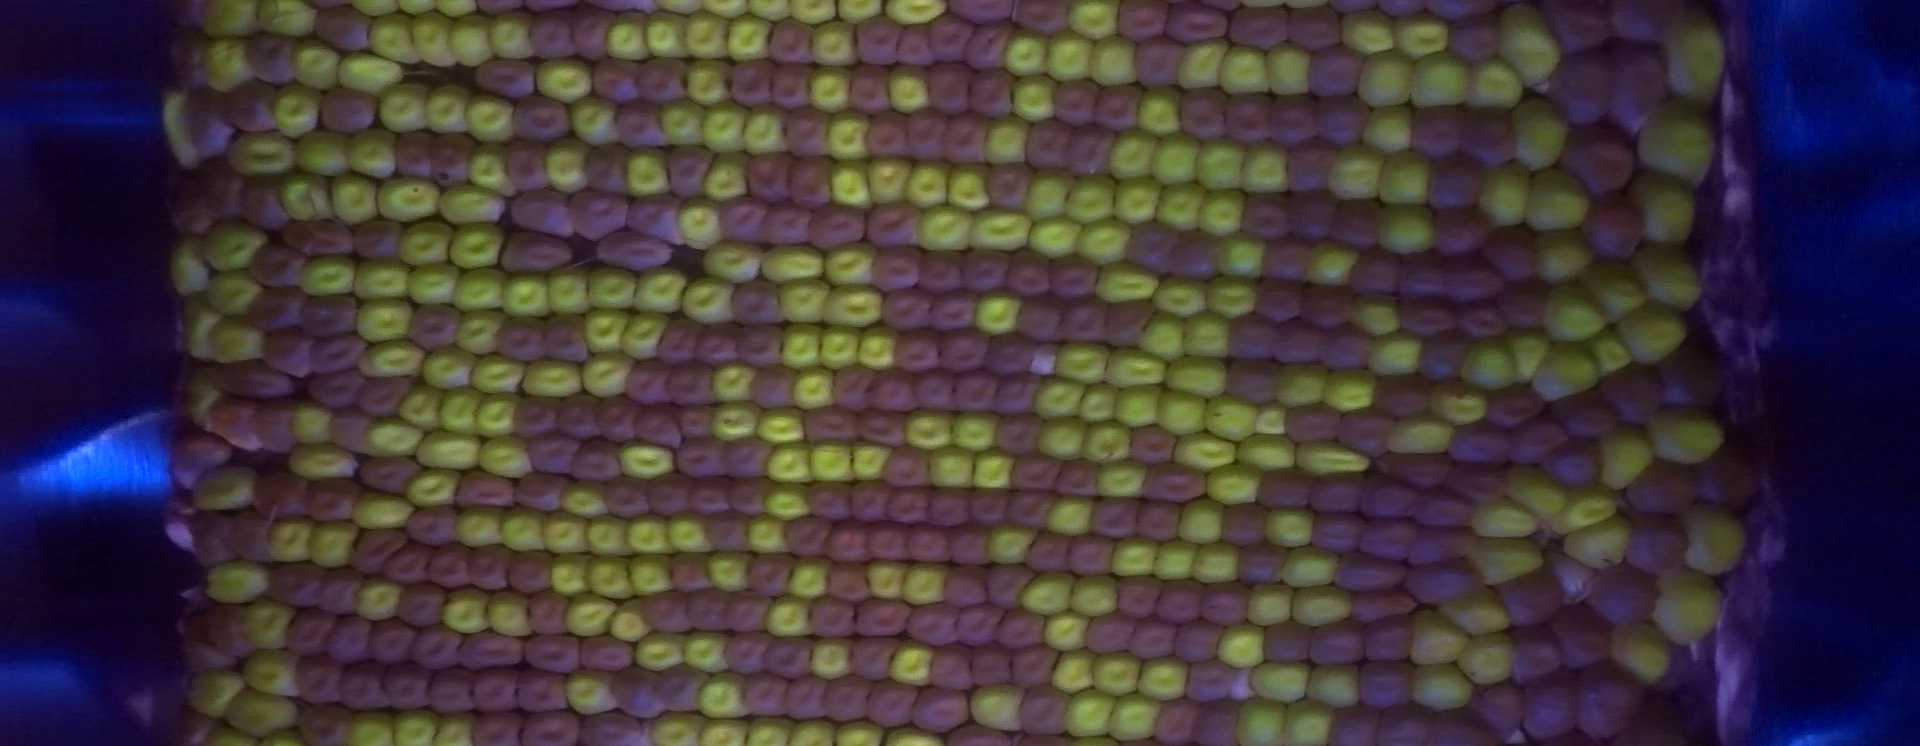fluorescent: (1656, 7, 1724, 104), (1495, 6, 1561, 87), (1642, 111, 1716, 183), (1680, 499, 1745, 572), (1656, 570, 1720, 641), (1652, 402, 1724, 465), (1466, 537, 1547, 586), (1513, 100, 1569, 170), (1635, 180, 1697, 241), (1598, 423, 1656, 488), (1637, 250, 1702, 306), (1509, 461, 1569, 521), (1532, 341, 1589, 403), (1621, 311, 1687, 364), (1412, 51, 1468, 111), (1610, 624, 1673, 677), (1531, 173, 1589, 229), (1480, 160, 1528, 229), (1542, 292, 1604, 343), (1565, 526, 1635, 570), (201, 216, 263, 265), (1327, 146, 1384, 198), (1379, 148, 1431, 205), (195, 465, 258, 512), (1358, 51, 1413, 104), (1411, 609, 1463, 663), (1554, 490, 1621, 532), (1439, 589, 1512, 627), (1176, 494, 1228, 546), (225, 696, 302, 731), (1461, 633, 1515, 684), (1589, 269, 1644, 318), (414, 430, 480, 470), (1429, 377, 1488, 423), (280, 173, 332, 224), (233, 134, 295, 175), (1462, 338, 1513, 388), (1416, 665, 1476, 708), (295, 131, 351, 176), (1476, 497, 1538, 538), (162, 89, 196, 163), (677, 198, 726, 249), (1468, 58, 1522, 103), (274, 85, 320, 138), (1395, 13, 1451, 56), (1539, 233, 1588, 282), (1153, 134, 1200, 185), (1276, 358, 1329, 403), (441, 184, 506, 220), (969, 688, 1027, 729), (204, 560, 268, 597), (545, 138, 590, 190), (458, 309, 509, 354), (1362, 104, 1419, 145), (339, 51, 400, 89), (241, 653, 302, 691), (184, 296, 220, 359), (284, 450, 359, 480), (380, 85, 427, 132), (1112, 693, 1160, 741), (1176, 39, 1224, 86), (1292, 588, 1352, 626), (828, 285, 884, 326), (1250, 659, 1307, 699), (703, 102, 746, 154), (827, 110, 868, 164), (468, 145, 509, 198), (381, 180, 436, 220), (1389, 419, 1453, 453), (468, 98, 516, 145), (369, 20, 418, 65), (1167, 358, 1229, 393), (398, 220, 449, 263), (1112, 127, 1153, 180), (1107, 347, 1164, 385), (1280, 548, 1337, 586), (457, 267, 504, 312), (246, 600, 294, 646), (618, 439, 673, 478), (293, 38, 336, 88), (1269, 45, 1311, 96), (571, 99, 621, 142), (1210, 396, 1260, 439), (1236, 699, 1286, 742), (1198, 189, 1249, 230), (707, 243, 758, 284), (201, 1, 257, 39), (351, 258, 408, 296), (1343, 16, 1396, 56), (765, 247, 823, 284), (1035, 415, 1089, 454), (186, 671, 240, 710), (1222, 49, 1269, 94), (704, 156, 749, 202), (1141, 312, 1187, 359), (207, 40, 251, 88), (590, 266, 634, 314), (358, 342, 424, 374), (1172, 432, 1233, 467), (1024, 570, 1073, 612), (301, 257, 356, 295), (524, 360, 583, 396), (629, 143, 669, 196), (1308, 665, 1360, 704), (982, 113, 1027, 158), (440, 386, 485, 431), (889, 66, 933, 113), (1014, 78, 1060, 122), (1082, 420, 1130, 463), (211, 321, 264, 359), (1100, 265, 1157, 300), (413, 18, 454, 67), (1051, 33, 1092, 82), (264, 521, 313, 562), (918, 209, 973, 246), (366, 418, 421, 454), (1198, 142, 1237, 194), (1297, 443, 1368, 472), (1030, 217, 1082, 255), (451, 225, 503, 263), (1369, 332, 1422, 370), (480, 439, 533, 477), (1243, 146, 1288, 190), (1117, 176, 1160, 223), (1003, 28, 1044, 76), (1307, 240, 1354, 282), (446, 587, 493, 628), (350, 497, 415, 528), (692, 13, 732, 62), (1056, 341, 1104, 381), (422, 345, 471, 386), (489, 593, 538, 633), (353, 577, 403, 616), (1153, 274, 1205, 312), (171, 236, 209, 288), (1093, 40, 1138, 85), (781, 276, 825, 320), (1237, 436, 1296, 469), (1069, 691, 1114, 734), (492, 12, 534, 59), (660, 98, 700, 146), (1035, 377, 1082, 418), (607, 12, 647, 61), (989, 526, 1038, 565), (1509, 327, 1544, 381), (1156, 185, 1206, 223), (1078, 223, 1128, 261), (1265, 506, 1315, 544), (1138, 91, 1182, 134), (872, 157, 909, 208), (1385, 208, 1429, 251), (333, 179, 376, 223), (359, 300, 414, 334), (1324, 371, 1379, 405), (1051, 647, 1095, 690), (699, 674, 743, 717), (448, 18, 489, 65), (726, 17, 773, 58), (1112, 537, 1158, 577), (1222, 624, 1269, 664), (889, 644, 936, 685), (429, 86, 467, 135), (1191, 544, 1240, 582), (816, 20, 858, 62), (809, 67, 851, 111), (351, 135, 396, 176), (1218, 236, 1262, 278), (687, 278, 731, 320), (902, 565, 947, 606), (637, 273, 682, 314), (623, 316, 669, 356), (409, 469, 460, 505), (828, 246, 874, 285), (626, 516, 672, 555), (684, 633, 731, 673), (1139, 661, 1187, 699), (1209, 469, 1261, 503), (1157, 393, 1206, 430), (582, 312, 624, 354), (569, 671, 612, 713), (209, 274, 260, 310), (767, 443, 811, 484), (1093, 654, 1138, 695), (1354, 294, 1400, 333), (1586, 333, 1631, 372), (584, 354, 629, 393), (1048, 494, 1093, 533), (1151, 540, 1196, 579), (1030, 170, 1068, 217), (765, 597, 813, 633), (976, 290, 1018, 332), (779, 323, 819, 366), (400, 383, 440, 428), (478, 394, 517, 439), (833, 165, 871, 211), (1071, 176, 1109, 222), (409, 267, 454, 305), (1188, 310, 1226, 355), (714, 405, 759, 443), (1247, 586, 1293, 622), (535, 65, 590, 96), (649, 13, 688, 56), (976, 214, 1025, 249), (547, 271, 587, 314), (789, 559, 833, 597), (1069, 4, 1119, 37), (564, 600, 616, 632), (715, 360, 756, 401), (291, 403, 333, 442), (315, 524, 356, 563), (1118, 390, 1161, 428), (749, 517, 792, 555), (1287, 706, 1330, 744), (744, 107, 781, 151), (910, 163, 947, 207), (928, 448, 972, 485), (1071, 579, 1117, 615), (649, 712, 699, 744), (1100, 463, 1146, 497), (393, 706, 440, 740), (812, 642, 853, 680), (1041, 616, 1089, 649), (545, 516, 588, 552), (471, 359, 520, 391), (953, 416, 998, 451), (458, 510, 503, 544), (262, 4, 312, 34), (591, 560, 631, 599), (507, 276, 547, 314), (907, 410, 949, 447), (629, 559, 672, 594), (950, 169, 989, 207), (504, 513, 545, 550), (562, 479, 604, 514), (1212, 279, 1255, 314), (637, 637, 684, 668), (588, 518, 627, 555), (551, 556, 588, 595), (864, 561, 904, 598), (1078, 383, 1118, 419), (812, 445, 853, 479), (687, 69, 730, 102), (189, 377, 220, 421), (759, 412, 807, 441), (669, 521, 713, 552), (973, 452, 1010, 490), (853, 443, 889, 483), (710, 555, 749, 590), (820, 331, 856, 369), (765, 490, 813, 518), (348, 714, 399, 740), (611, 608, 655, 637), (790, 374, 831, 404), (861, 332, 893, 367), (888, 2, 944, 22), (437, 718, 478, 745), (1255, 403, 1288, 435), (792, 1, 835, 26), (703, 719, 746, 744), (749, 717, 787, 744), (791, 723, 838, 744), (841, 720, 882, 744), (839, 2, 882, 22), (749, 1, 789, 20), (392, 1, 436, 17), (883, 733, 947, 744), (349, 1, 398, 15), (705, 2, 748, 16), (436, 1, 479, 13)
nonfluorescent: (1600, 32, 1667, 132), (1577, 657, 1644, 744), (1561, 126, 1642, 197), (1549, 49, 1619, 127), (1656, 345, 1725, 415), (1582, 190, 1648, 263), (1586, 561, 1663, 624), (1469, 680, 1540, 746), (1491, 557, 1560, 625), (1695, 441, 1760, 512), (238, 24, 311, 86), (1622, 461, 1697, 519), (1460, 98, 1521, 169), (1625, 511, 1693, 573), (1553, 601, 1615, 669), (1524, 681, 1588, 746), (209, 356, 301, 401), (185, 87, 238, 159), (1307, 42, 1370, 100), (504, 186, 577, 238), (189, 605, 257, 659), (1537, 1, 1610, 51), (238, 173, 298, 234), (1368, 450, 1453, 492), (1545, 431, 1605, 491), (1550, 386, 1621, 436), (1123, 217, 1183, 276), (594, 228, 678, 269), (1403, 562, 1485, 605), (429, 127, 484, 191), (1220, 353, 1284, 407), (1509, 626, 1567, 685), (227, 77, 283, 138), (1406, 103, 1467, 159), (165, 169, 216, 238), (1605, 361, 1658, 426), (208, 398, 267, 456), (1288, 186, 1344, 246), (1096, 296, 1157, 352), (1226, 4, 1294, 53), (665, 143, 721, 202), (170, 430, 229, 486), (1172, 225, 1227, 285), (496, 232, 573, 274), (1484, 222, 1539, 282), (1427, 699, 1498, 746), (862, 367, 923, 421), (512, 92, 576, 143), (315, 86, 380, 136), (1480, 381, 1550, 428), (1450, 419, 1516, 468), (861, 197, 923, 249), (284, 216, 359, 258), (1362, 609, 1425, 659), (1511, 416, 1569, 472), (571, 186, 629, 240), (1256, 461, 1315, 514), (804, 205, 866, 256), (1354, 521, 1425, 565), (167, 28, 216, 92), (245, 284, 313, 330), (1134, 33, 1188, 91), (264, 555, 323, 608), (1300, 278, 1360, 330), (623, 196, 684, 246), (1307, 617, 1368, 668), (1142, 459, 1210, 505), (1251, 273, 1307, 328), (351, 209, 407, 265), (1315, 96, 1371, 149), (1320, 318, 1376, 372), (260, 327, 316, 381), (1270, 316, 1329, 367), (474, 56, 539, 103), (797, 405, 863, 451), (1430, 156, 1485, 209), (328, 407, 384, 459), (718, 196, 775, 247), (759, 200, 817, 251), (1185, 86, 1236, 145), (311, 333, 370, 383), (789, 152, 838, 212), (396, 127, 444, 187), (1284, 397, 1344, 446), (1416, 332, 1476, 381), (353, 454, 422, 496), (1406, 526, 1476, 567), (853, 16, 907, 70), (938, 114, 992, 168), (962, 16, 1018, 69), (1224, 307, 1277, 363), (613, 664, 669, 717), (729, 277, 785, 328), (1362, 475, 1425, 521), (1431, 208, 1495, 254), (304, 289, 362, 338), (1284, 7, 1344, 55), (1180, 659, 1245, 703), (1442, 258, 1507, 303), (312, 6, 373, 53), (527, 9, 579, 62), (539, 312, 591, 366), (411, 299, 464, 353), (255, 467, 307, 521), (1406, 490, 1480, 528), (584, 142, 636, 197), (359, 372, 421, 418), (231, 506, 277, 568), (1340, 191, 1385, 254), (1022, 118, 1073, 174), (253, 399, 304, 456), (634, 56, 692, 105), (1047, 254, 1104, 303), (1370, 375, 1438, 416), (1356, 661, 1420, 704), (966, 66, 1019, 119), (1282, 141, 1335, 194), (1067, 129, 1120, 180), (958, 246, 1011, 298), (917, 686, 971, 737), (1224, 91, 1275, 146), (731, 322, 786, 372), (1450, 15, 1505, 65), (767, 13, 816, 70), (506, 140, 555, 196), (252, 239, 309, 288), (354, 526, 410, 575), (1164, 5, 1231, 47), (880, 446, 940, 491), (302, 477, 362, 522), (1337, 405, 1390, 457), (984, 159, 1035, 213), (744, 548, 795, 601), (528, 590, 578, 644), (902, 109, 950, 165), (204, 154, 244, 223), (458, 633, 527, 673), (1259, 620, 1316, 666), (452, 472, 514, 514), (936, 328, 994, 374), (1310, 512, 1369, 557), (1093, 82, 1145, 134), (863, 109, 915, 160), (656, 661, 708, 713), (311, 566, 364, 616), (1007, 247, 1056, 301), (984, 330, 1038, 379), (624, 356, 678, 405), (905, 601, 959, 650), (519, 668, 573, 717), (1270, 91, 1318, 146), (613, 102, 669, 149), (378, 665, 433, 713), (195, 508, 238, 570), (1309, 470, 1365, 517), (525, 435, 584, 479), (687, 578, 731, 637), (591, 55, 643, 105), (781, 110, 833, 160), (915, 247, 966, 298), (1058, 296, 1109, 347), (655, 315, 707, 365), (495, 315, 545, 366), (751, 364, 802, 414), (1222, 500, 1273, 550), (339, 664, 389, 715), (927, 66, 980, 115), (744, 153, 793, 206), (632, 403, 684, 452), (724, 432, 776, 481), (1193, 693, 1242, 746), (517, 706, 580, 746), (879, 287, 936, 332), (384, 545, 442, 589), (1013, 296, 1064, 345), (853, 627, 902, 679), (825, 673, 874, 724), (782, 514, 835, 562), (1156, 577, 1209, 625), (560, 387, 606, 441), (673, 440, 727, 486), (1378, 699, 1431, 746), (1130, 616, 1185, 661), (470, 537, 514, 593), (309, 369, 373, 407), (410, 497, 460, 546), (866, 676, 915, 726), (1069, 532, 1120, 579), (1402, 251, 1453, 299), (467, 665, 519, 712), (1332, 699, 1385, 746), (578, 710, 647, 746), (924, 290, 980, 334), (666, 364, 721, 408), (574, 2, 615, 62), (1052, 80, 1101, 129), (595, 394, 644, 443), (640, 590, 689, 639), (1244, 191, 1292, 241), (890, 328, 940, 376), (760, 630, 808, 680), (573, 437, 624, 484), (869, 247, 922, 293), (703, 508, 756, 554), (1202, 581, 1255, 626), (1009, 454, 1063, 499), (804, 595, 858, 639), (853, 597, 912, 637), (1444, 465, 1506, 503), (1258, 238, 1313, 281), (1504, 281, 1547, 336), (396, 576, 444, 624), (324, 617, 372, 666), (429, 668, 476, 717), (1351, 247, 1400, 295), (769, 64, 819, 110), (1135, 499, 1185, 545), (429, 540, 475, 590), (1085, 606, 1135, 653), (849, 65, 894, 116), (295, 652, 340, 703), (931, 13, 975, 66), (696, 320, 740, 372), (953, 606, 1005, 650), (531, 632, 587, 674), (1024, 687, 1070, 736), (912, 366, 958, 416), (998, 603, 1048, 648), (366, 616, 411, 666), (732, 58, 776, 109), (1005, 488, 1057, 532), (820, 521, 872, 565), (825, 562, 878, 605), (1010, 648, 1064, 690), (1398, 298, 1457, 336), (928, 649, 976, 696), (1119, 1, 1168, 47), (955, 371, 1004, 416), (1090, 496, 1139, 541), (984, 561, 1033, 606), (411, 627, 460, 673), (864, 524, 915, 568), (1236, 541, 1286, 586), (727, 586, 775, 631), (895, 18, 939, 67), (996, 367, 1040, 416), (645, 473, 694, 517), (906, 526, 955, 570), (860, 405, 910, 448), (1011, 1, 1071, 37), (295, 706, 348, 746), (1331, 554, 1389, 590), (579, 632, 637, 669), (1174, 622, 1228, 661), (969, 647, 1015, 692), (744, 674, 789, 722), (287, 612, 336, 655), (660, 552, 715, 590), (722, 635, 774, 675), (514, 474, 571, 511), (927, 488, 975, 530), (1127, 424, 1180, 462), (516, 396, 564, 437), (993, 416, 1044, 456), (1349, 587, 1420, 615), (1460, 303, 1512, 341), (509, 548, 556, 590), (835, 363, 876, 412), (607, 472, 647, 522), (887, 486, 932, 529), (1160, 701, 1202, 746), (847, 478, 889, 524), (809, 479, 851, 526), (1118, 575, 1164, 616), (947, 526, 994, 566), (1057, 453, 1101, 496), (967, 489, 1011, 532), (785, 677, 827, 723), (1022, 537, 1070, 576), (1427, 1, 1502, 26), (725, 480, 773, 518), (687, 478, 731, 518), (945, 568, 989, 609), (947, 1, 1015, 26), (474, 713, 524, 746), (671, 404, 713, 440), (945, 724, 1010, 746), (1378, 1, 1427, 18)
